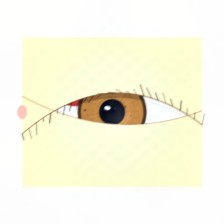hemorrhage_spot: (38, 60, 130, 134)
